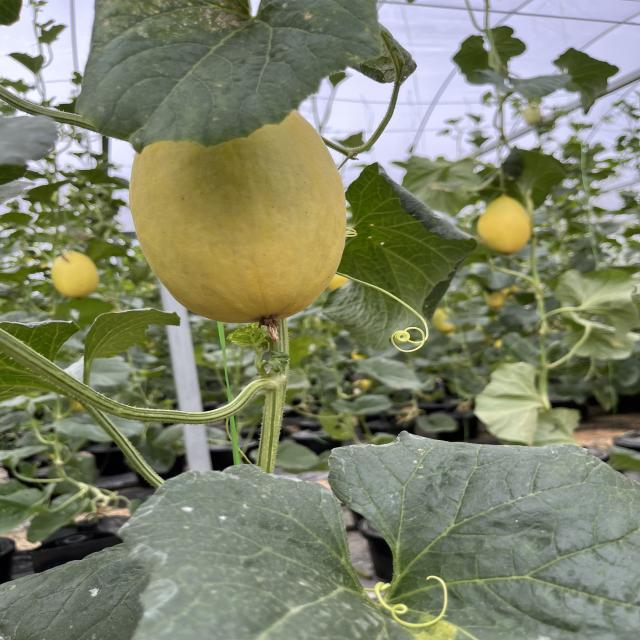downy mildew: (295, 429, 639, 640), (70, 0, 402, 155), (0, 545, 163, 640)
healthy: (325, 165, 487, 352), (65, 297, 186, 364)
powdery mildew: (117, 451, 376, 640)
